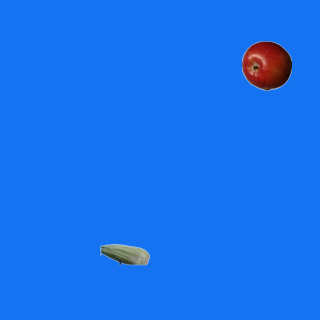Apple Braeburn: (241, 40, 291, 90)
Corn Husk: (99, 229, 149, 279)
